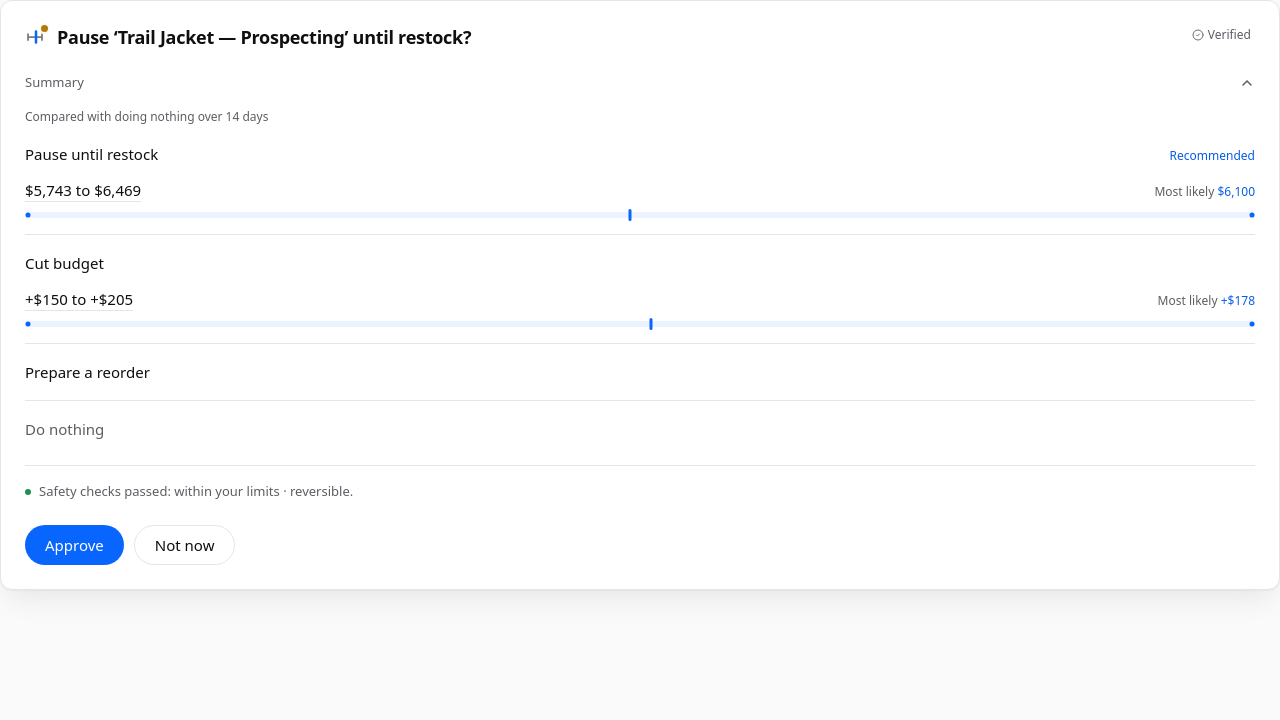
Test: the permission card › carries the Verified seal of its recommended option
What coordinates should you click on to do the following:
click the button "Verified"
I would click on:
 (1221, 35)
Its box is [1188, 25, 1255, 46].
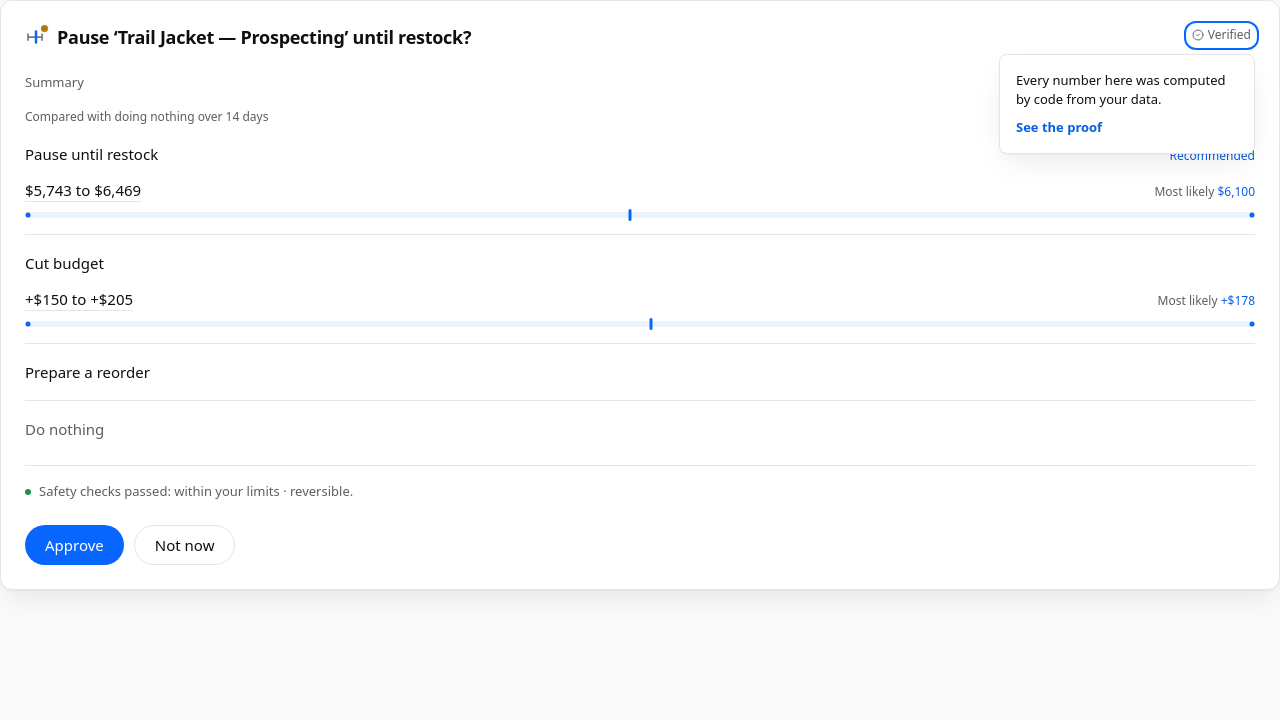
What coordinates should you click on to do the following:
click the button "See the proof"
I would click on:
 (1059, 128)
Its box is [1016, 118, 1102, 137].
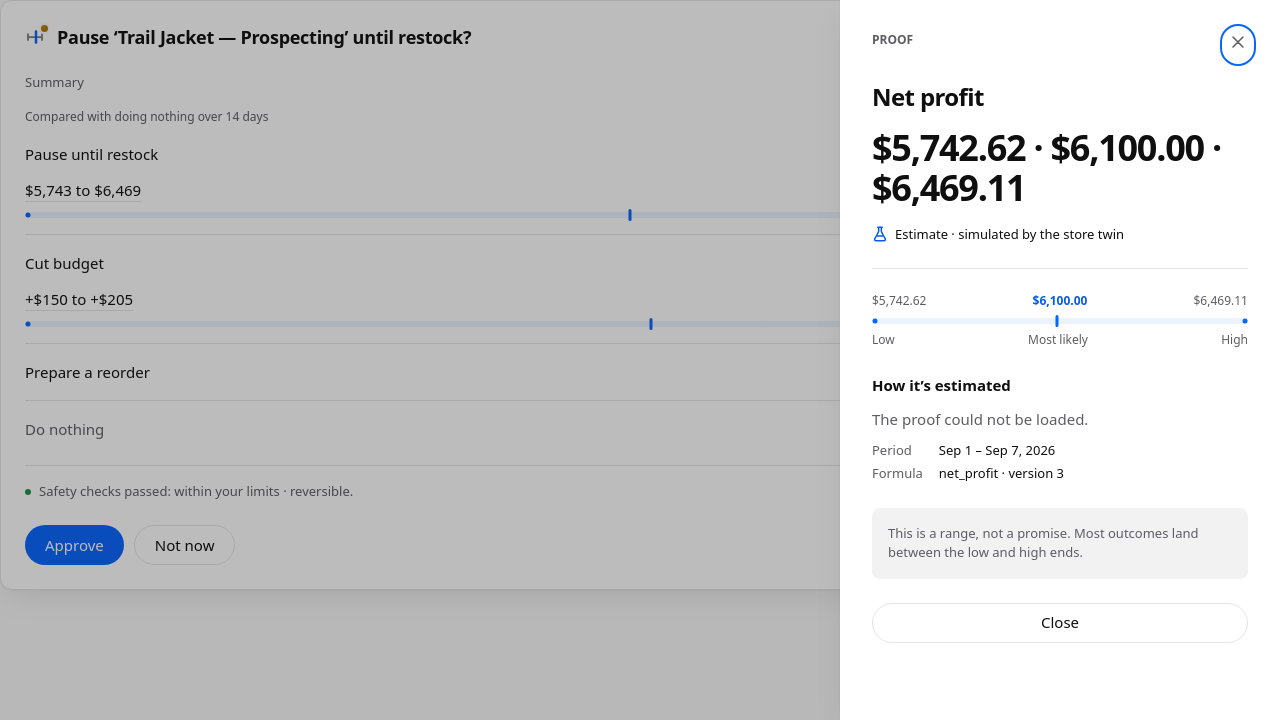
Expected: the dialog shows "$5,742.62 · $6,100.00 · $6,469.11", [872, 123, 1221, 212]
